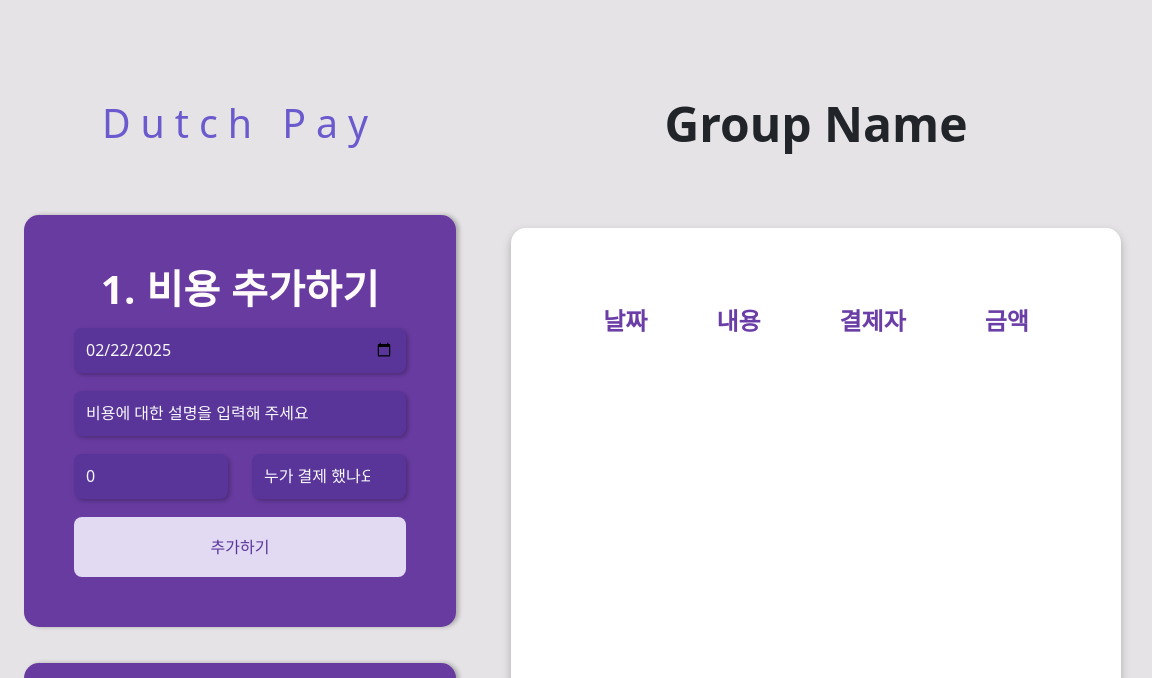
Test case: 비용 정산 메인 페이지 › 새로운 비용이 입력되었을 때 › 날짜, 내용, 금액, 결제자 데이터가 정산 리스트에 추가된다
This screenshot has width=1152, height=678.
Type "2022-10-10" into the date field with placeholder "결제한 날짜를 선택해 주세요" at {"x": 240, "y": 350}, box x1=74 y1=328 x2=406 y2=372
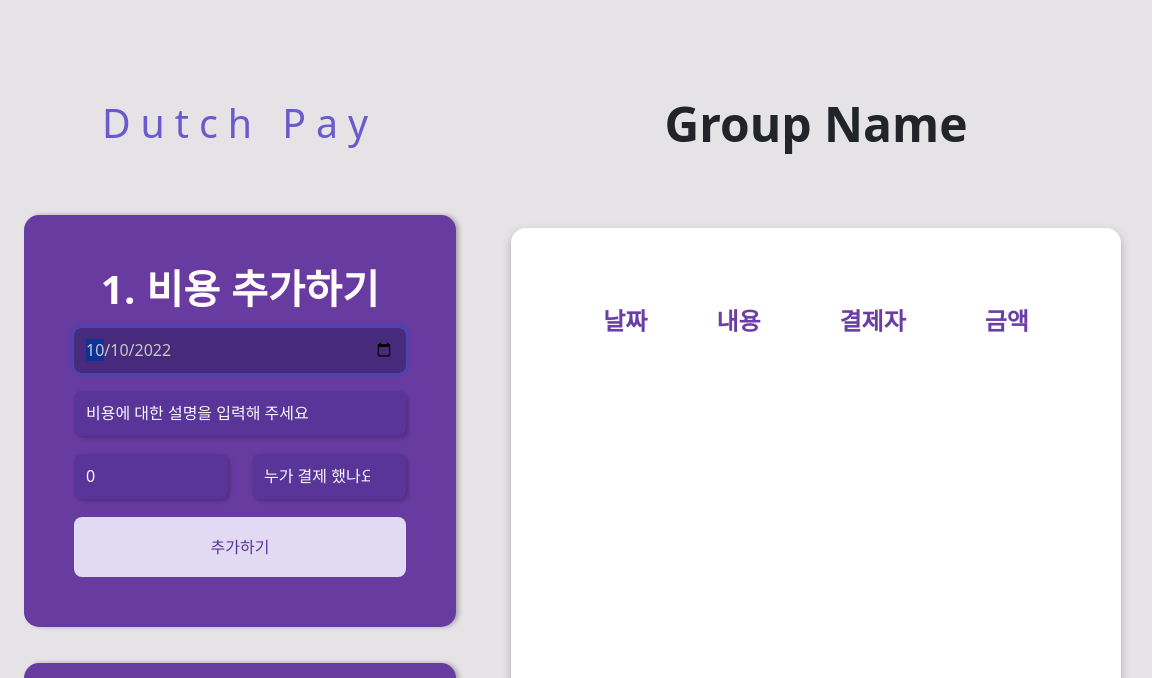
Type "장보기" into the field with placeholder "비용에 대한 설명을 입력해 주세요" at {"x": 240, "y": 413}, box x1=74 y1=390 x2=406 y2=436
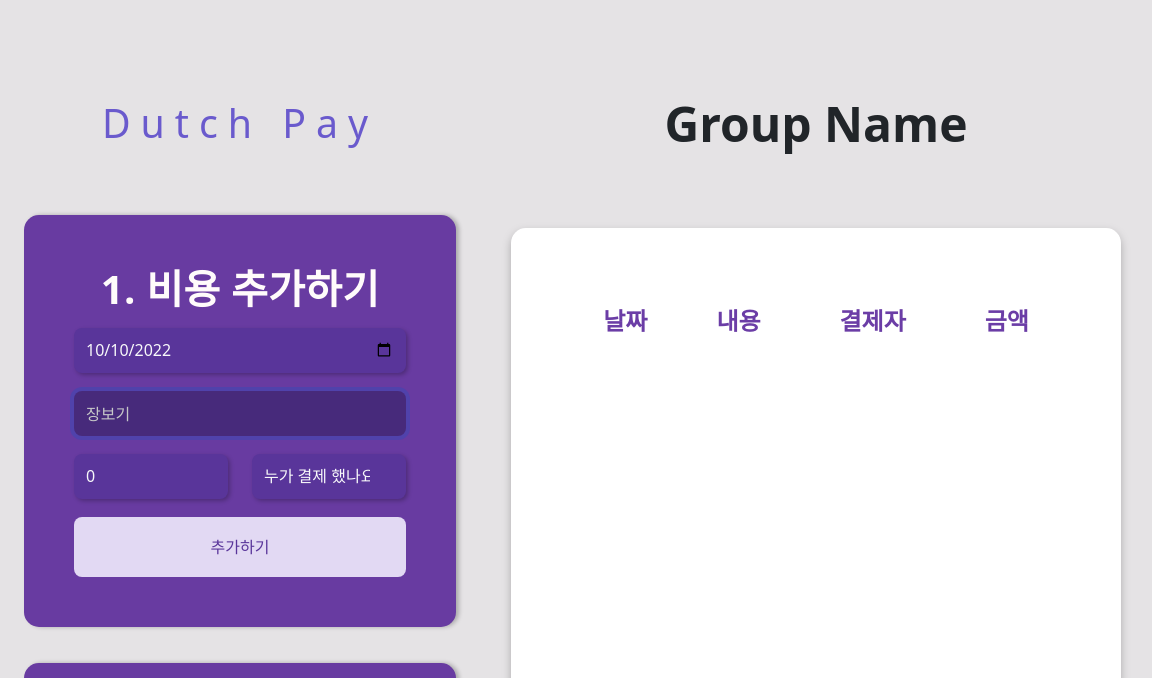
Type "30000" into the number field with placeholder "비용은 얼마였나요?" at {"x": 151, "y": 476}, box x1=74 y1=454 x2=228 y2=498
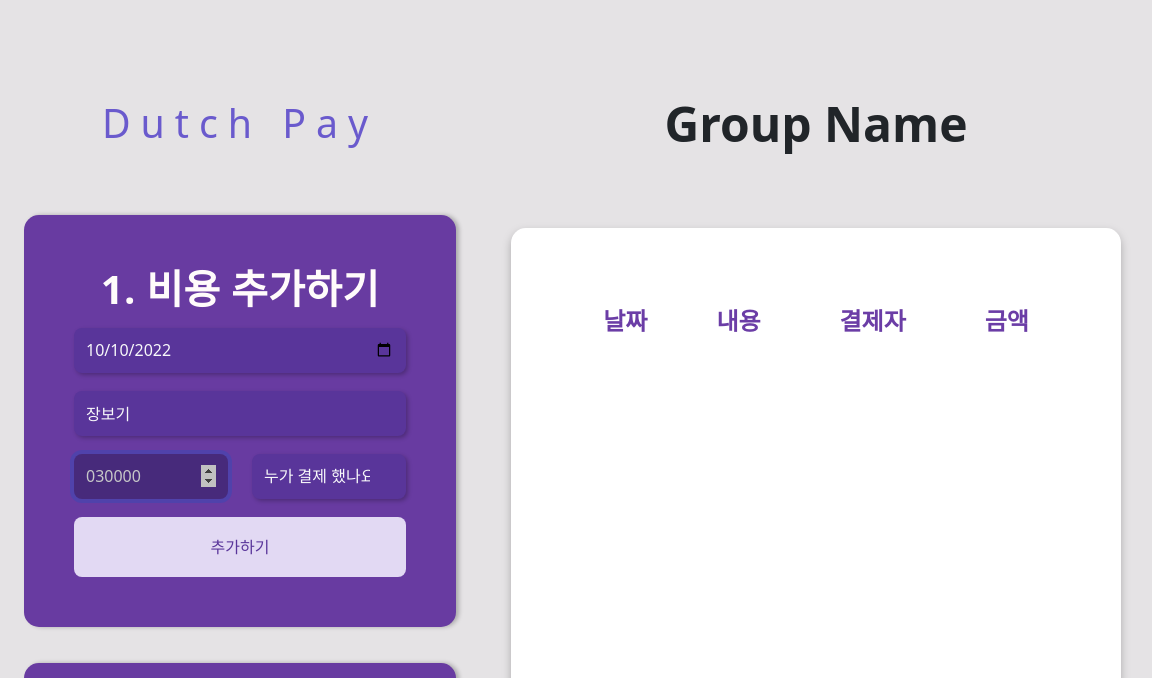
Select "영수" in the dropdown showing "누가 결제" at {"x": 329, "y": 476}, box x1=252 y1=454 x2=406 y2=498
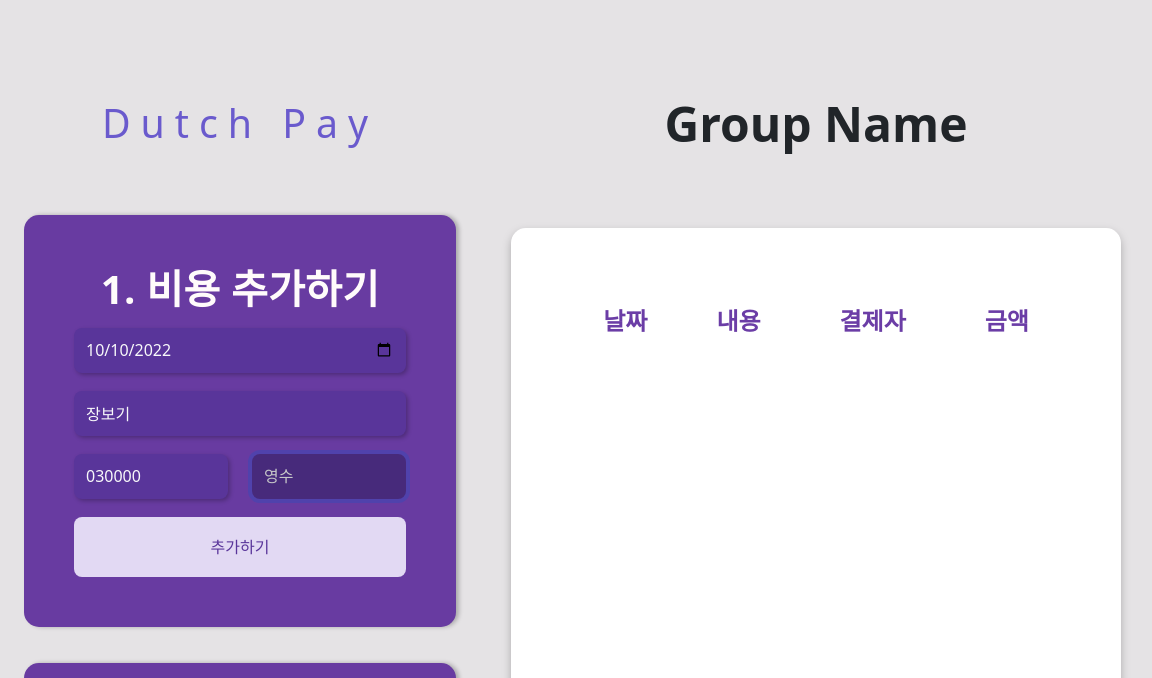
Click the button "추가하기" at {"x": 240, "y": 546}, box x1=74 y1=516 x2=406 y2=576
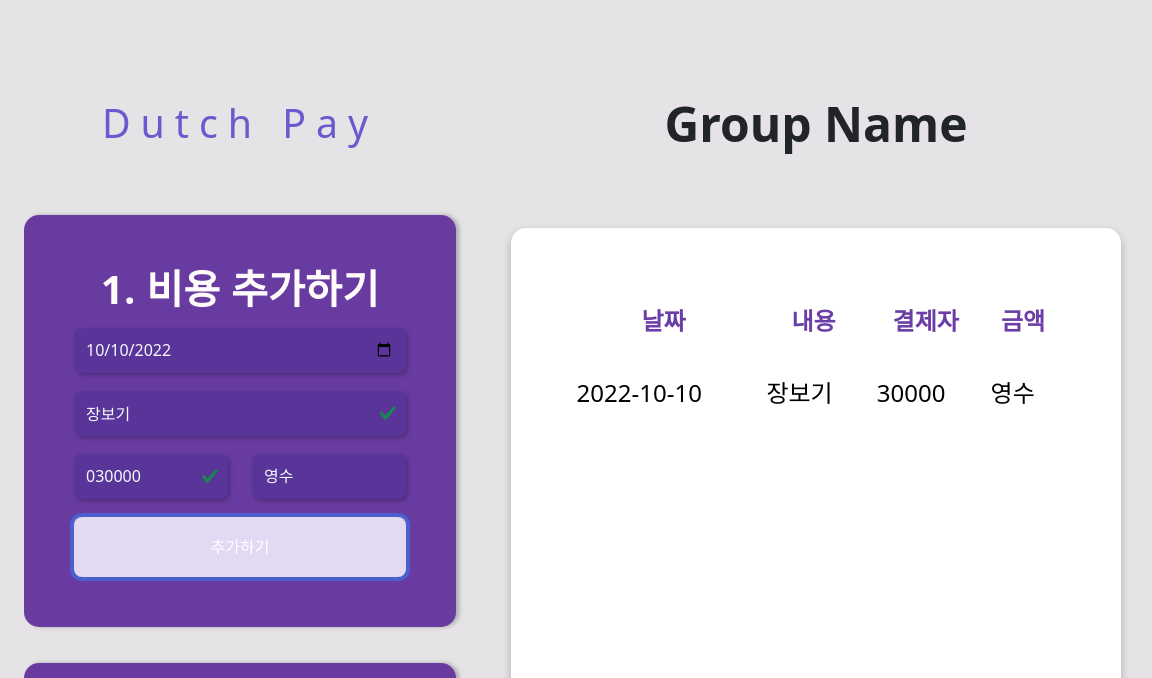
Result: the text "2022-10-10" is shown at x1=569 y1=355 x2=758 y2=430
Result: the text "장보기" is shown at x1=758 y1=355 x2=869 y2=430
Result: the text "30000" is shown at x1=869 y1=355 x2=983 y2=430
